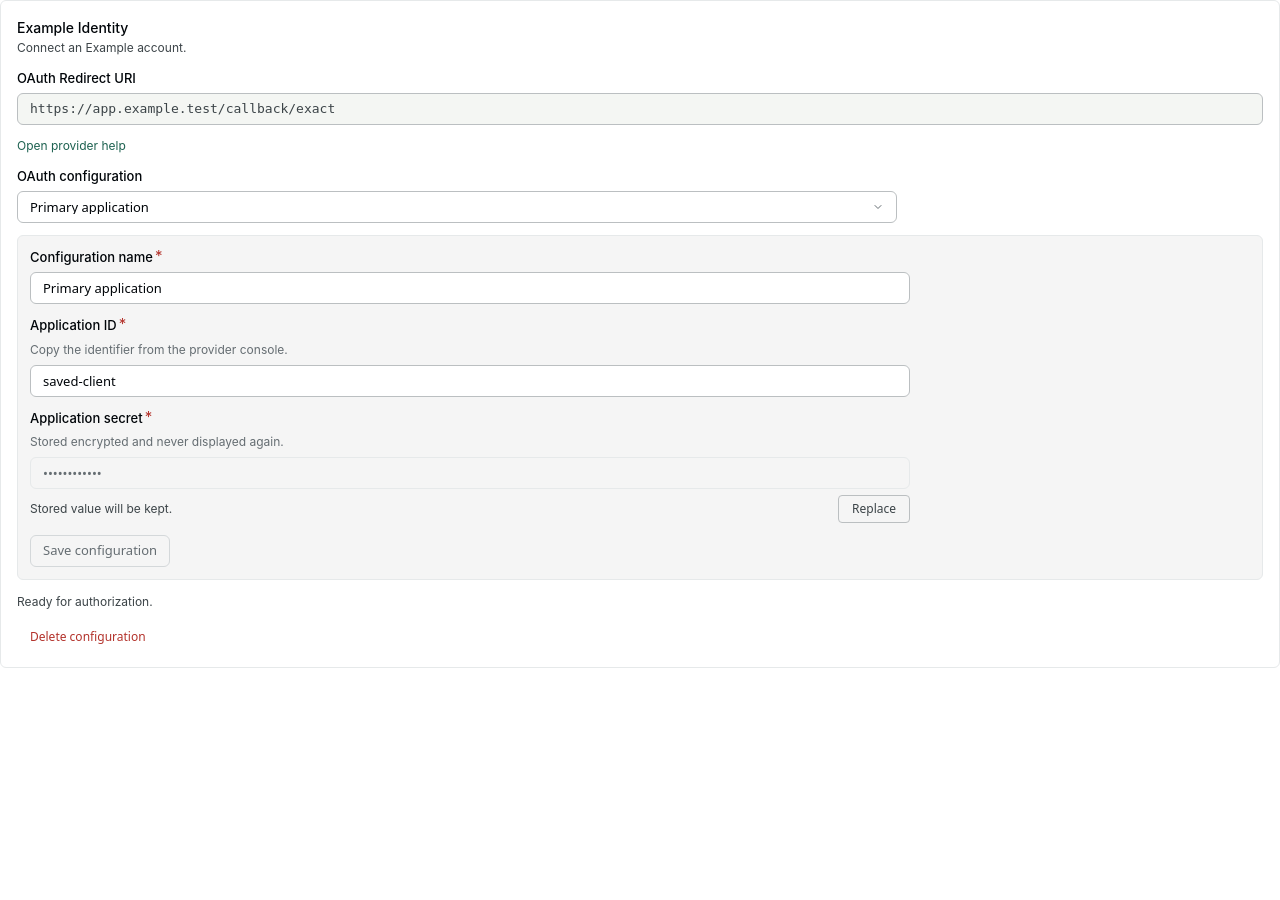
Test case: ExtensionOAuthSetup › requires, validates, and can cancel an explicit stored-secret replacement
Expected: the text "Stored value will be kept." is shown, x1=30 y1=500 x2=172 y2=518
Click the button "Replace" at (874, 509), box x1=838 y1=495 x2=910 y2=523
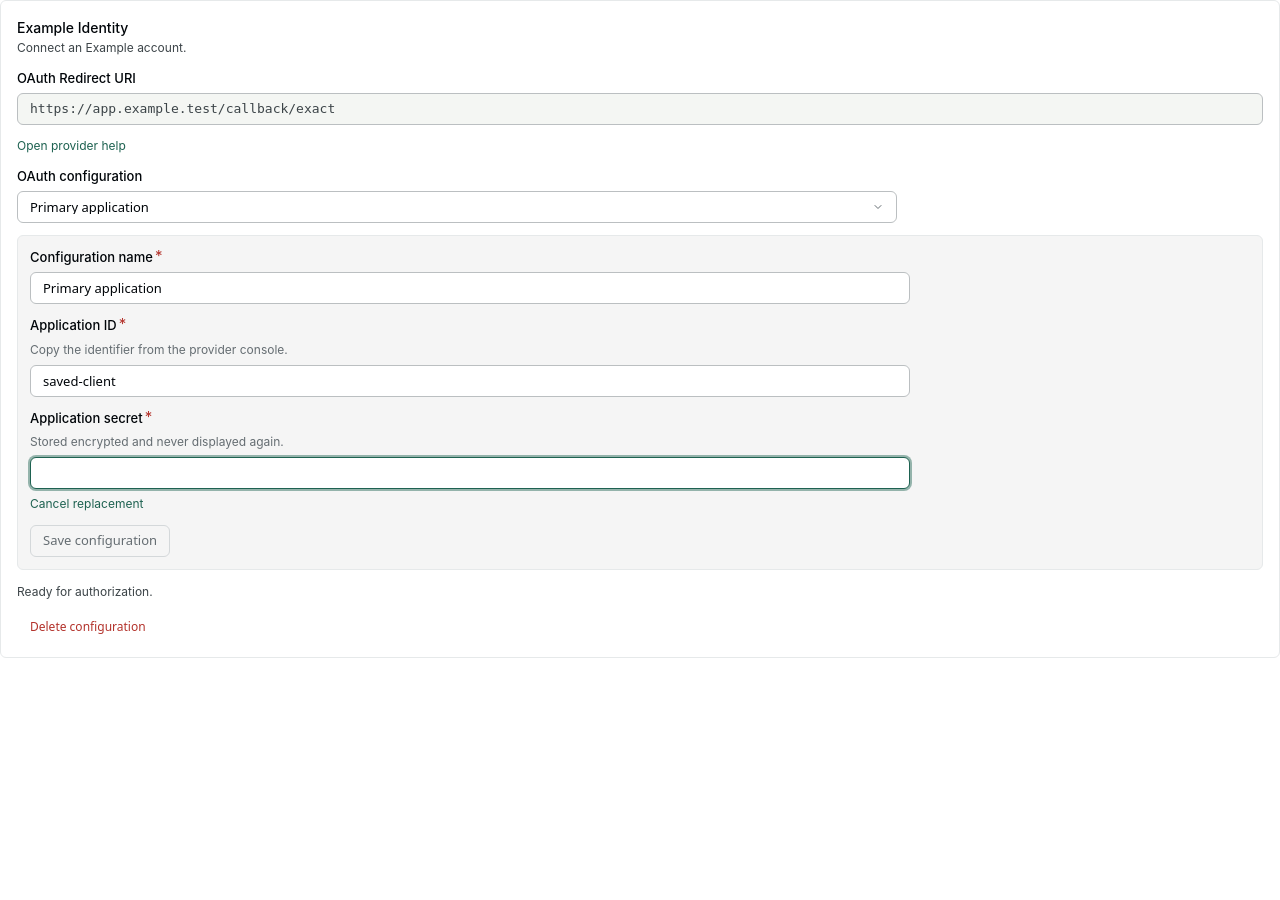
Expected: the password field labelled "Application secret" is enabled
Expected: the password field labelled "Application secret" is empty
Type "abc" into the password field labelled "Application secret" at (470, 473), box x1=30 y1=457 x2=910 y2=489
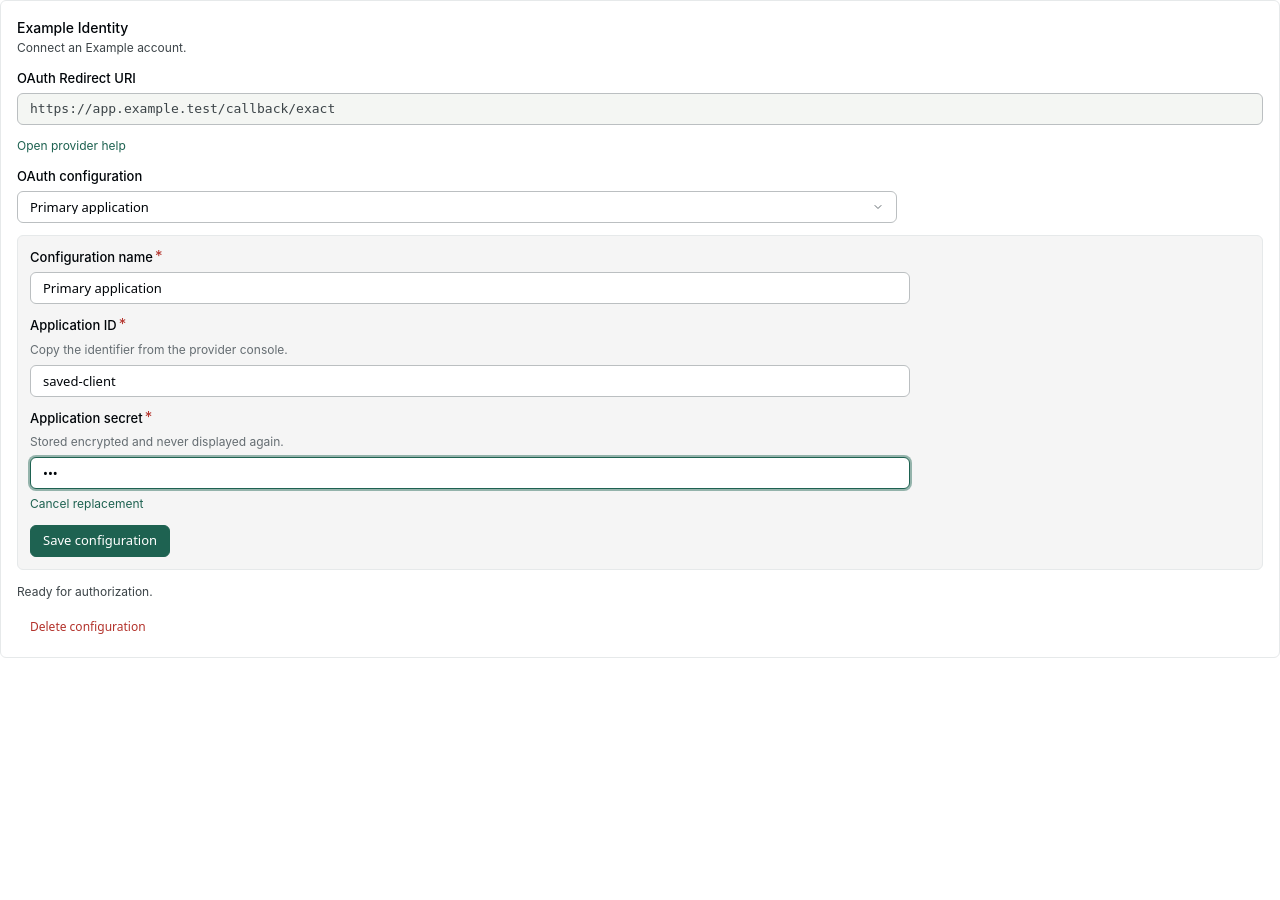
Expected: the button "Save configuration" is enabled, x1=30 y1=525 x2=170 y2=557
Press Tab
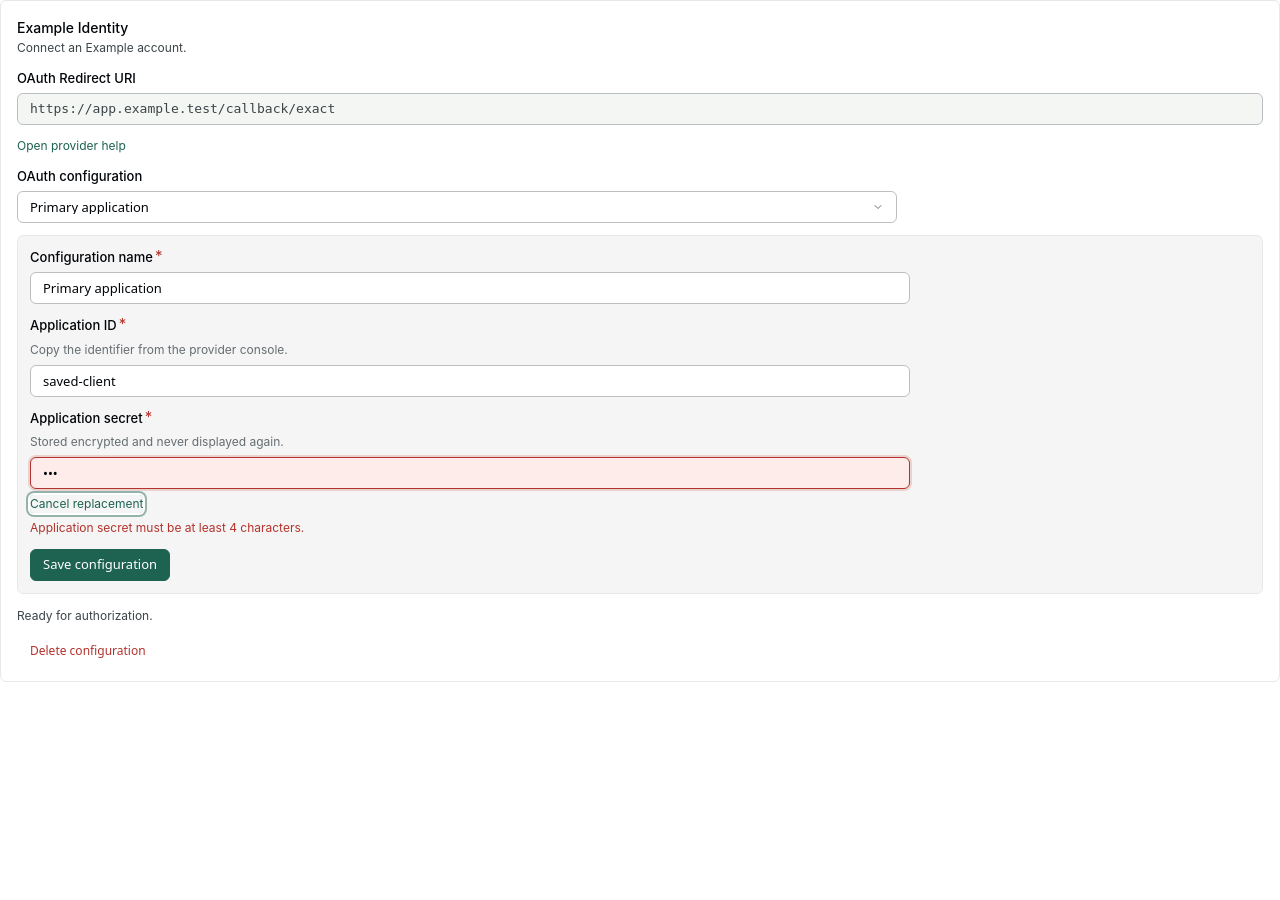
Click the button "Save configuration" at (100, 565), box x1=30 y1=549 x2=170 y2=581
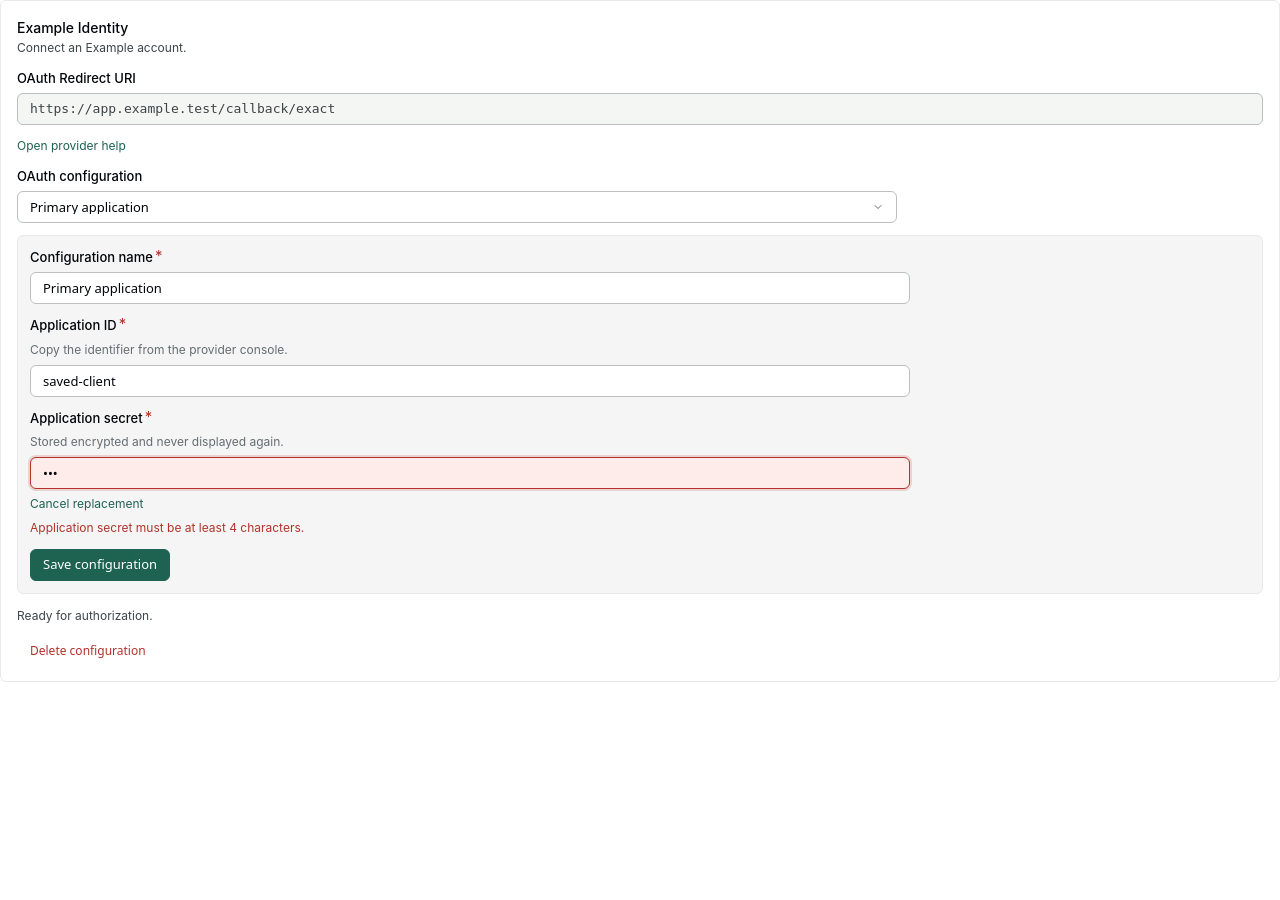
Expected: the password field labelled "Application secret" is marked as invalid, x1=30 y1=457 x2=910 y2=489
Click the button "Cancel replacement" at (87, 504), box x1=30 y1=495 x2=143 y2=513
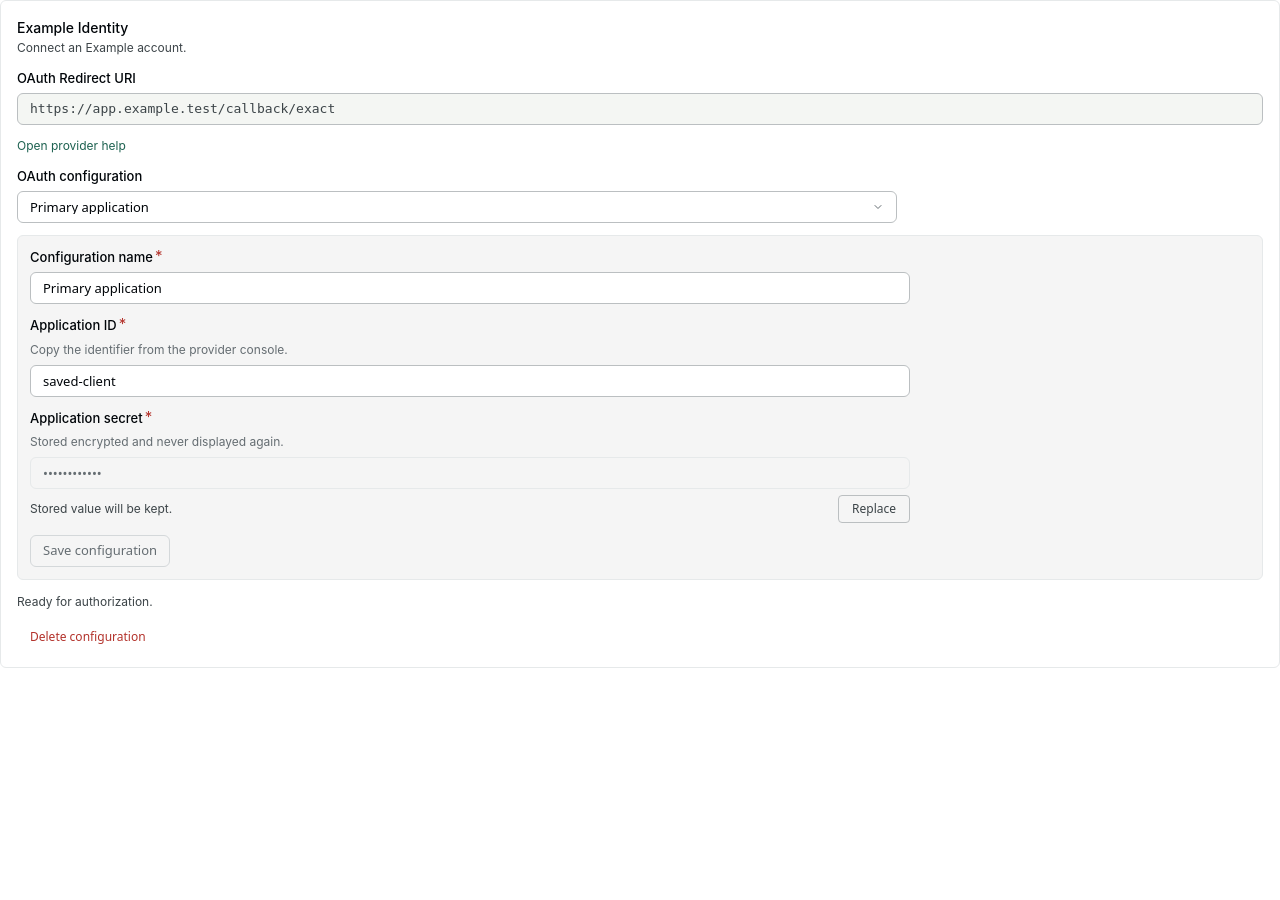
Expected: the password field labelled "Application secret" is disabled, x1=30 y1=457 x2=910 y2=489
Expected: the password field labelled "Application secret" holds "••••••••••••", x1=30 y1=457 x2=910 y2=489
Expected: the text "Stored value will be kept." is shown, x1=30 y1=500 x2=172 y2=518
